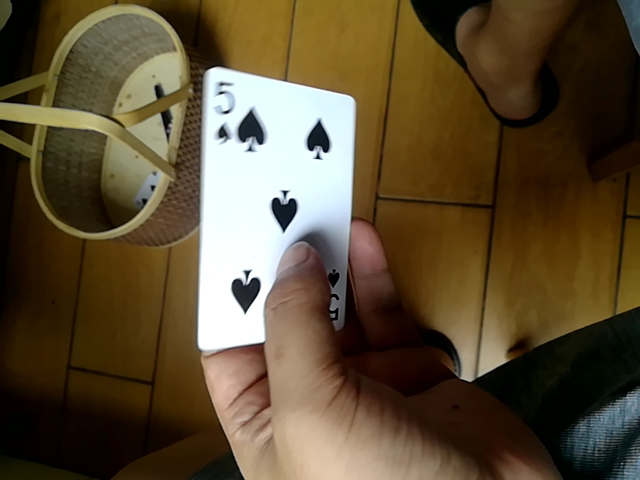ht 5: (191, 64, 358, 342)
